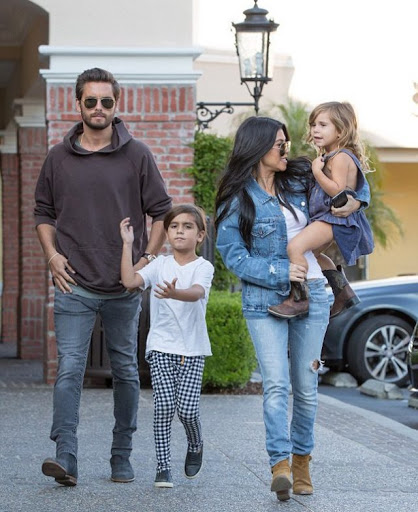Person: (35, 67, 148, 485), (215, 116, 318, 502), (121, 204, 214, 486), (296, 101, 374, 315)
